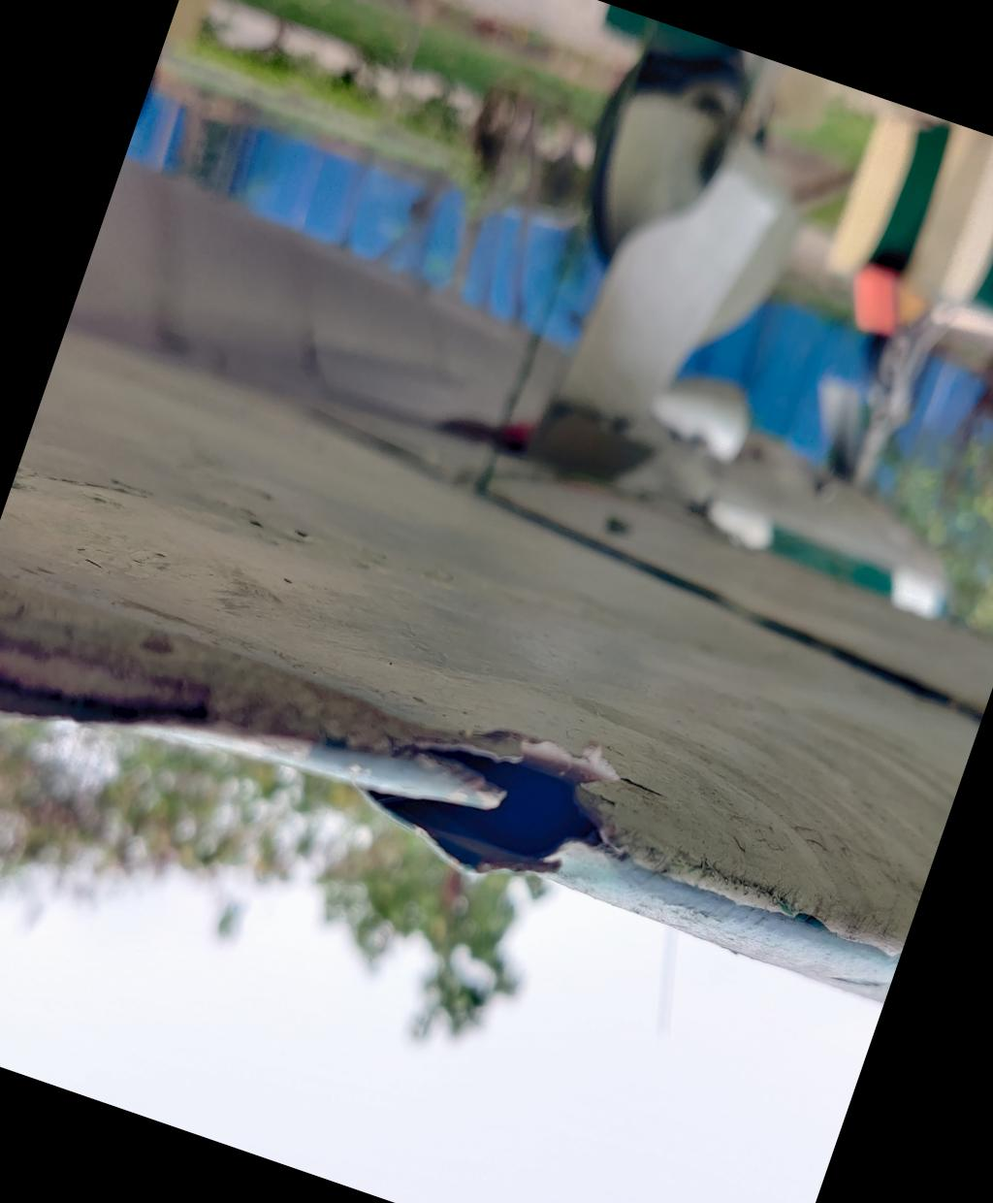crack: (319, 649, 689, 938)
